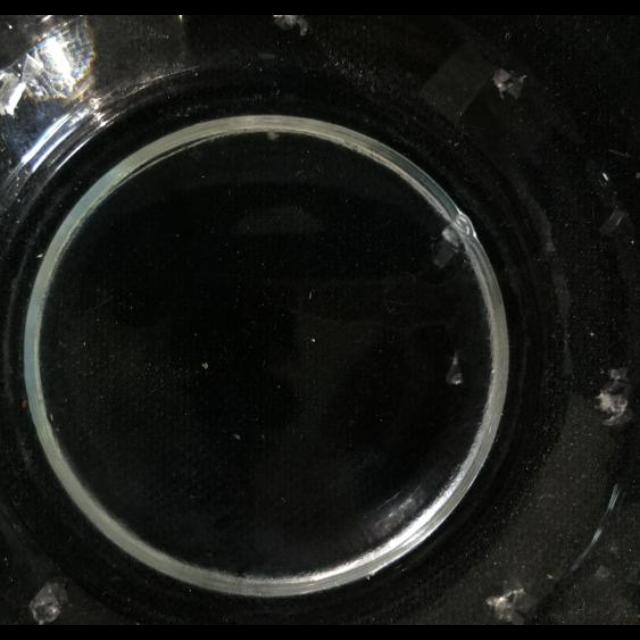Fibre: (595, 368, 635, 427), (430, 222, 468, 270), (30, 580, 70, 624), (485, 586, 533, 622), (493, 67, 527, 99), (274, 14, 308, 36), (444, 352, 464, 386)
microbeads: (201, 362, 209, 370), (308, 290, 314, 300)
